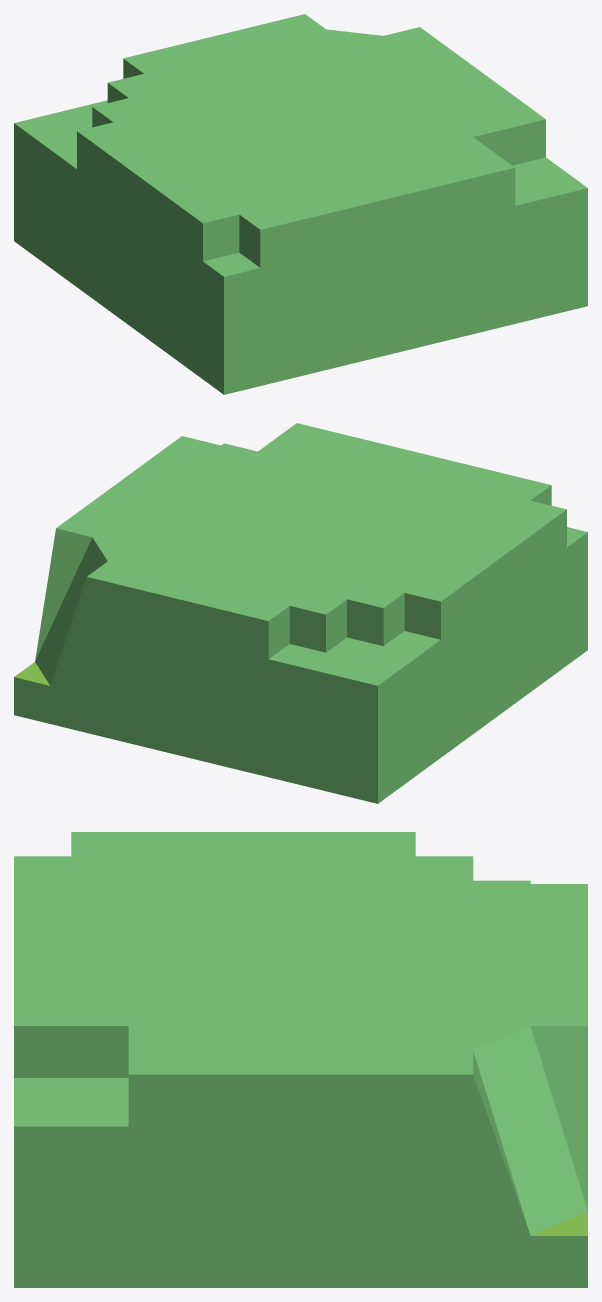
File: x_zem_1_7_1_rmstrd.fbx
3 views of the same model, one above another, from view 1: azimuth 30°, elevation 25°; view 2: azimuth 150°, elevation 25°; view 3: azimuth 270°, elevation 25° (orthographic). The views are drawn at different scales.
Visible parts, largest first — view 1: x_zem_1_7_1_rmstrd1; view 2: x_zem_1_7_1_rmstrd1; view 3: x_zem_1_7_1_rmstrd1.
Part boxes in pixels (bbox=[...]): x_zem_1_7_1_rmstrd1: bbox=[14, 14, 587, 394]; x_zem_1_7_1_rmstrd1: bbox=[14, 423, 587, 803]; x_zem_1_7_1_rmstrd1: bbox=[14, 832, 587, 1287].
Bounding box in the file's own units: 10 × 4.1 × 10.
